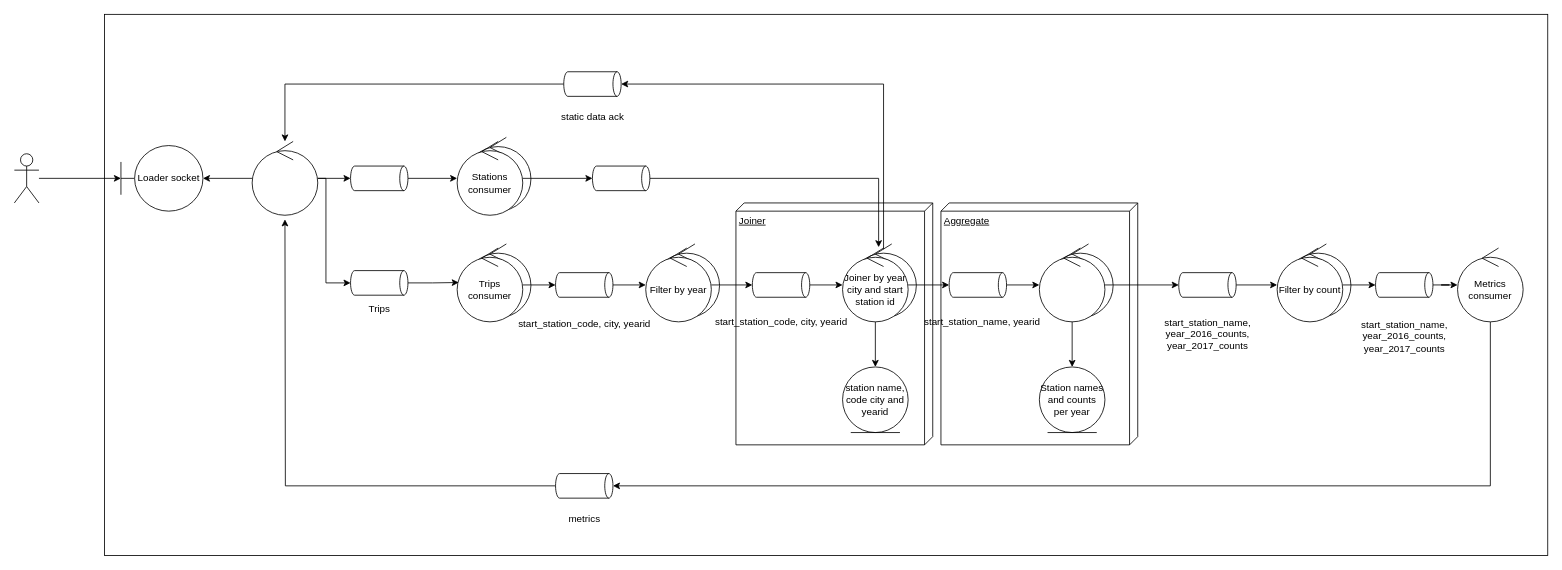
This 1562x570 diagram has some shape labels left out. Here are the shapes that lost their labels. From the top down, the box of each, then its label:
(14, 153, 39, 203): Client
(251, 141, 318, 215): Loader
(350, 165, 408, 191): Stations
(592, 165, 650, 191): code, city, yearid, name
(948, 272, 1007, 297): hashed
(1039, 247, 1105, 322): Aggregate by trip count
